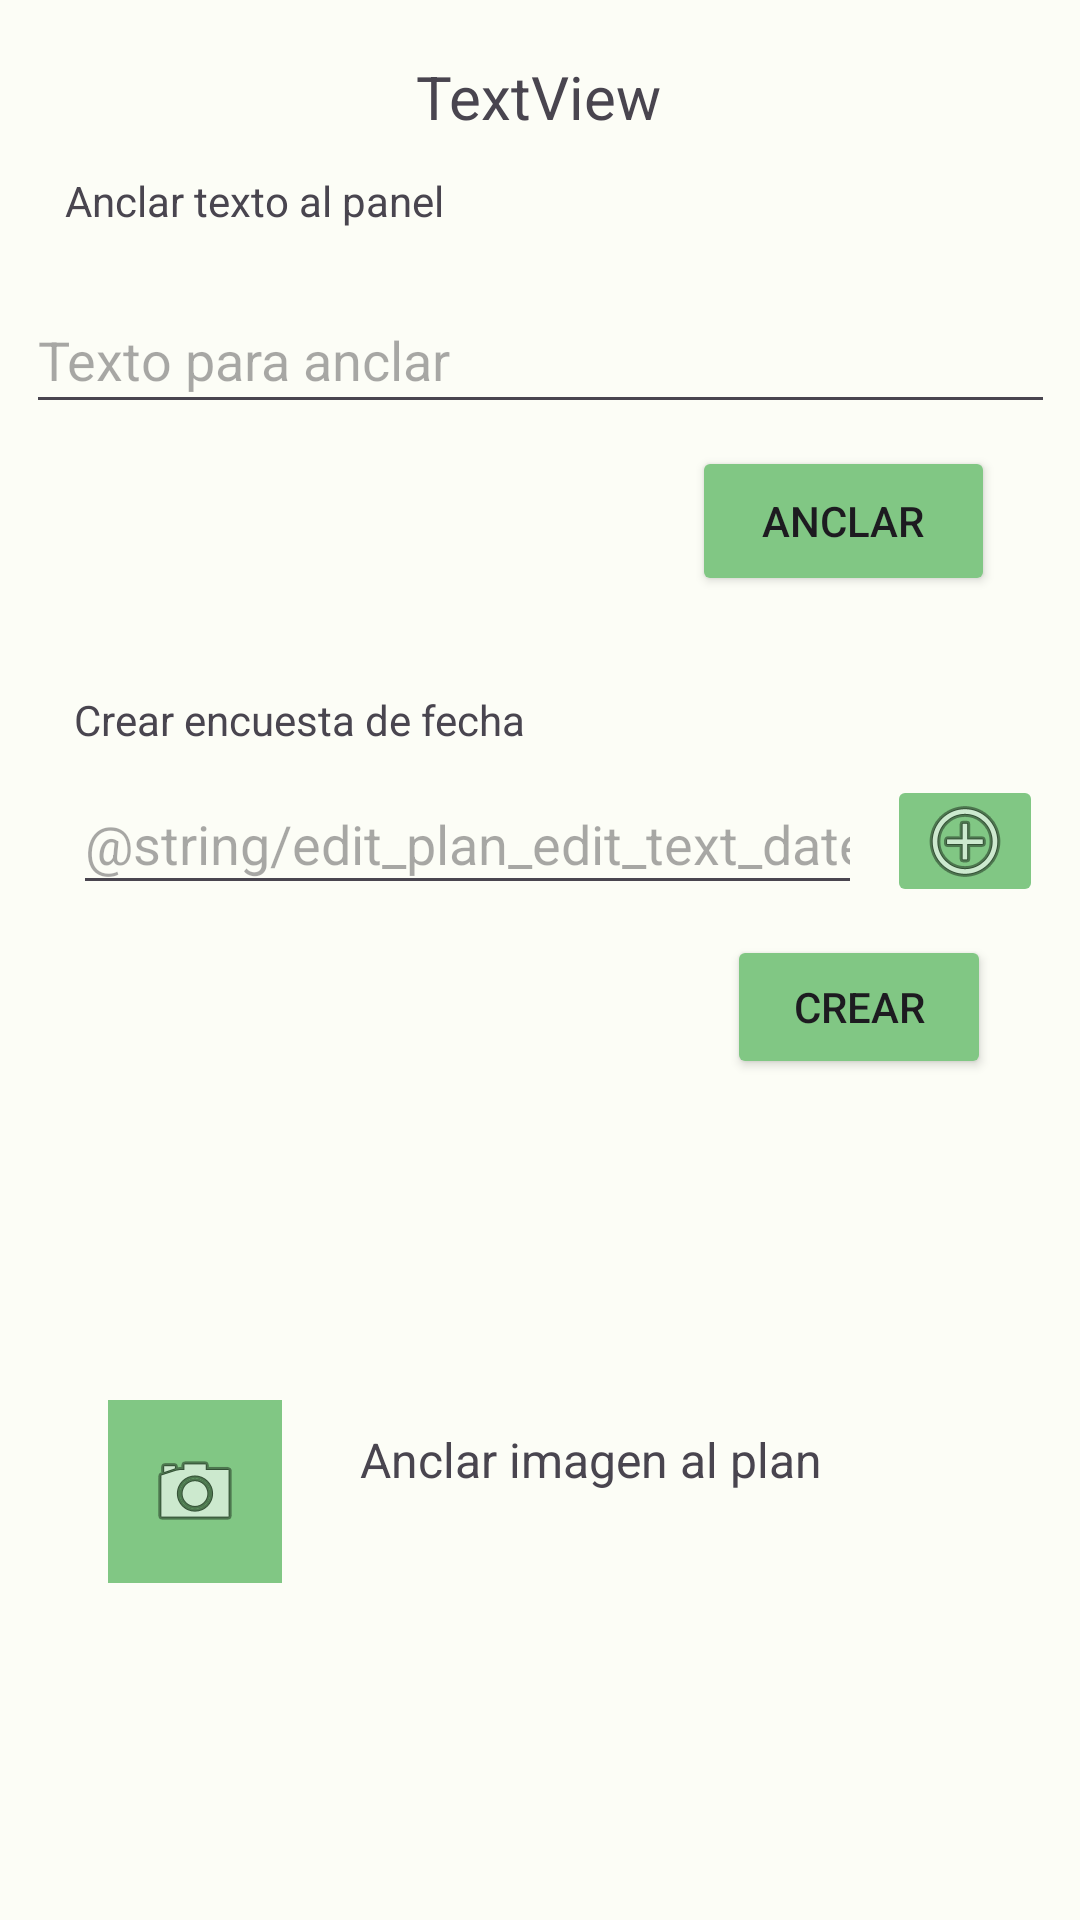

Icons on this 1080 × 1920 Android screen, each with the point to tap as (x,y):
add: (965,841)
camera: (195,1491)
